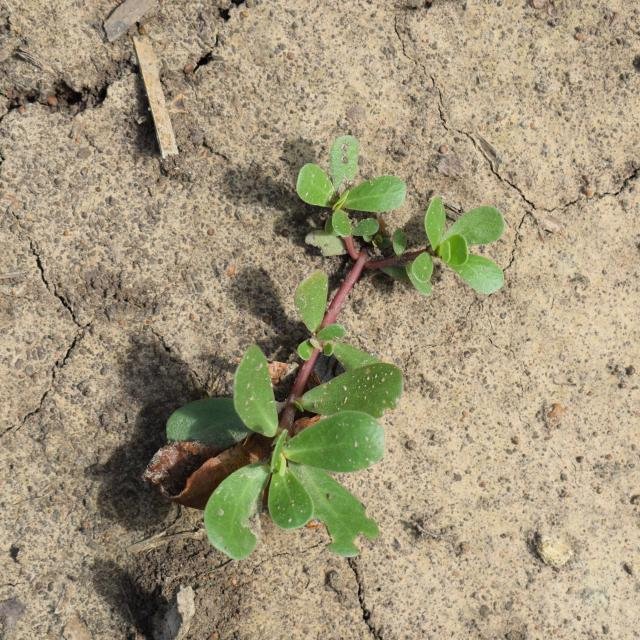Purslane: (166, 135, 504, 560)
